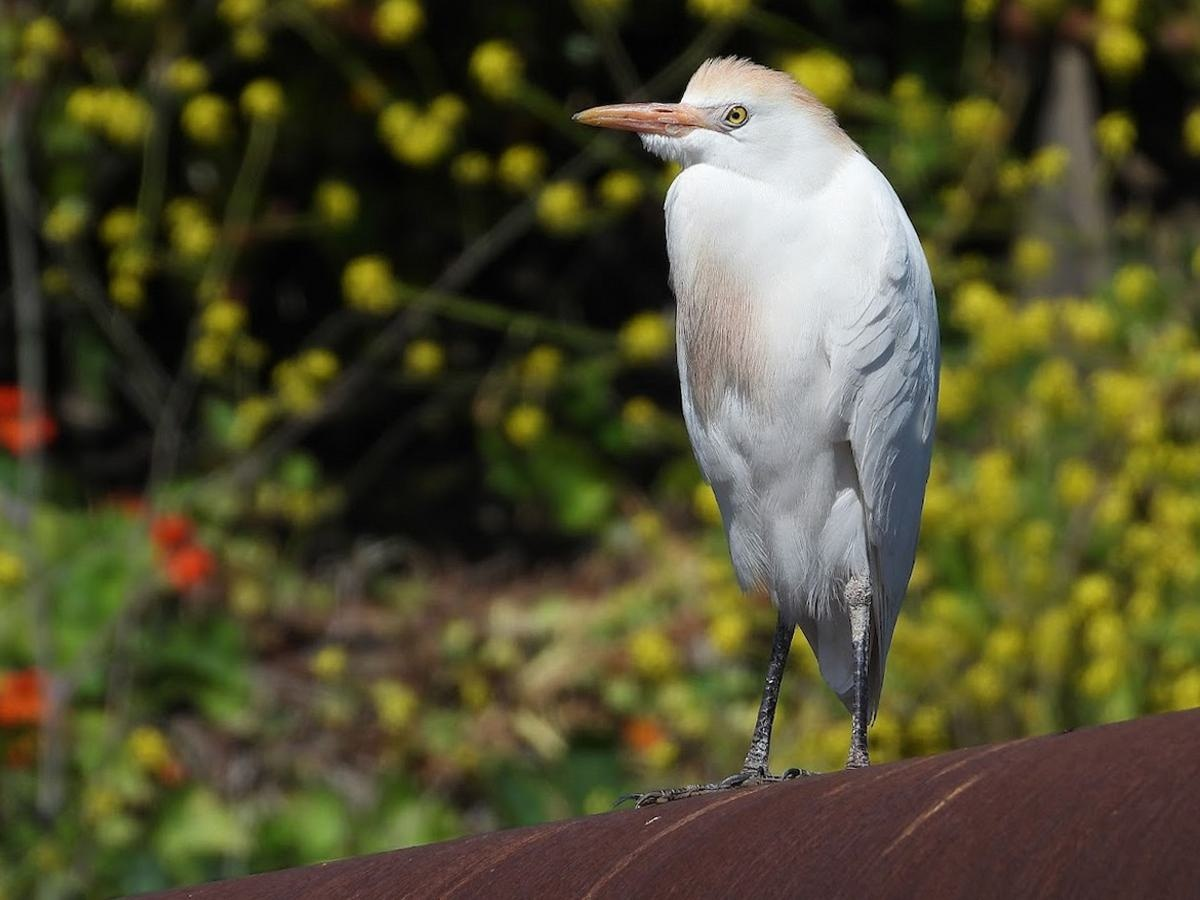egret: (556, 48, 979, 801)
